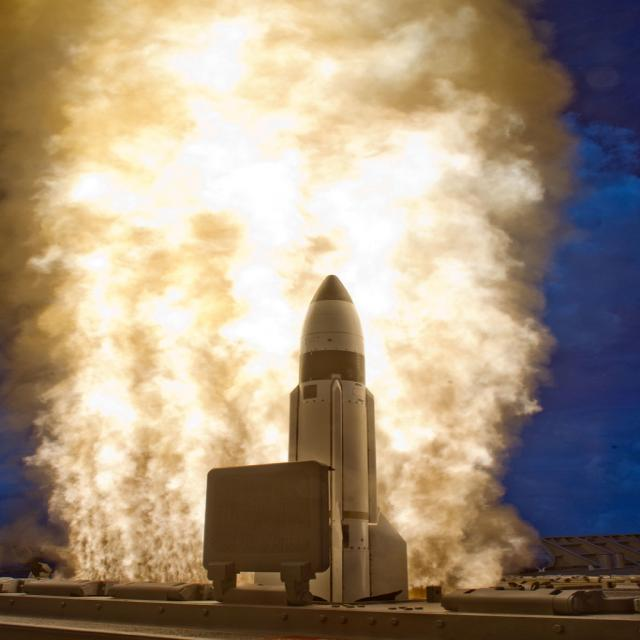Missile: (286, 253, 378, 598), (330, 375, 346, 530)
